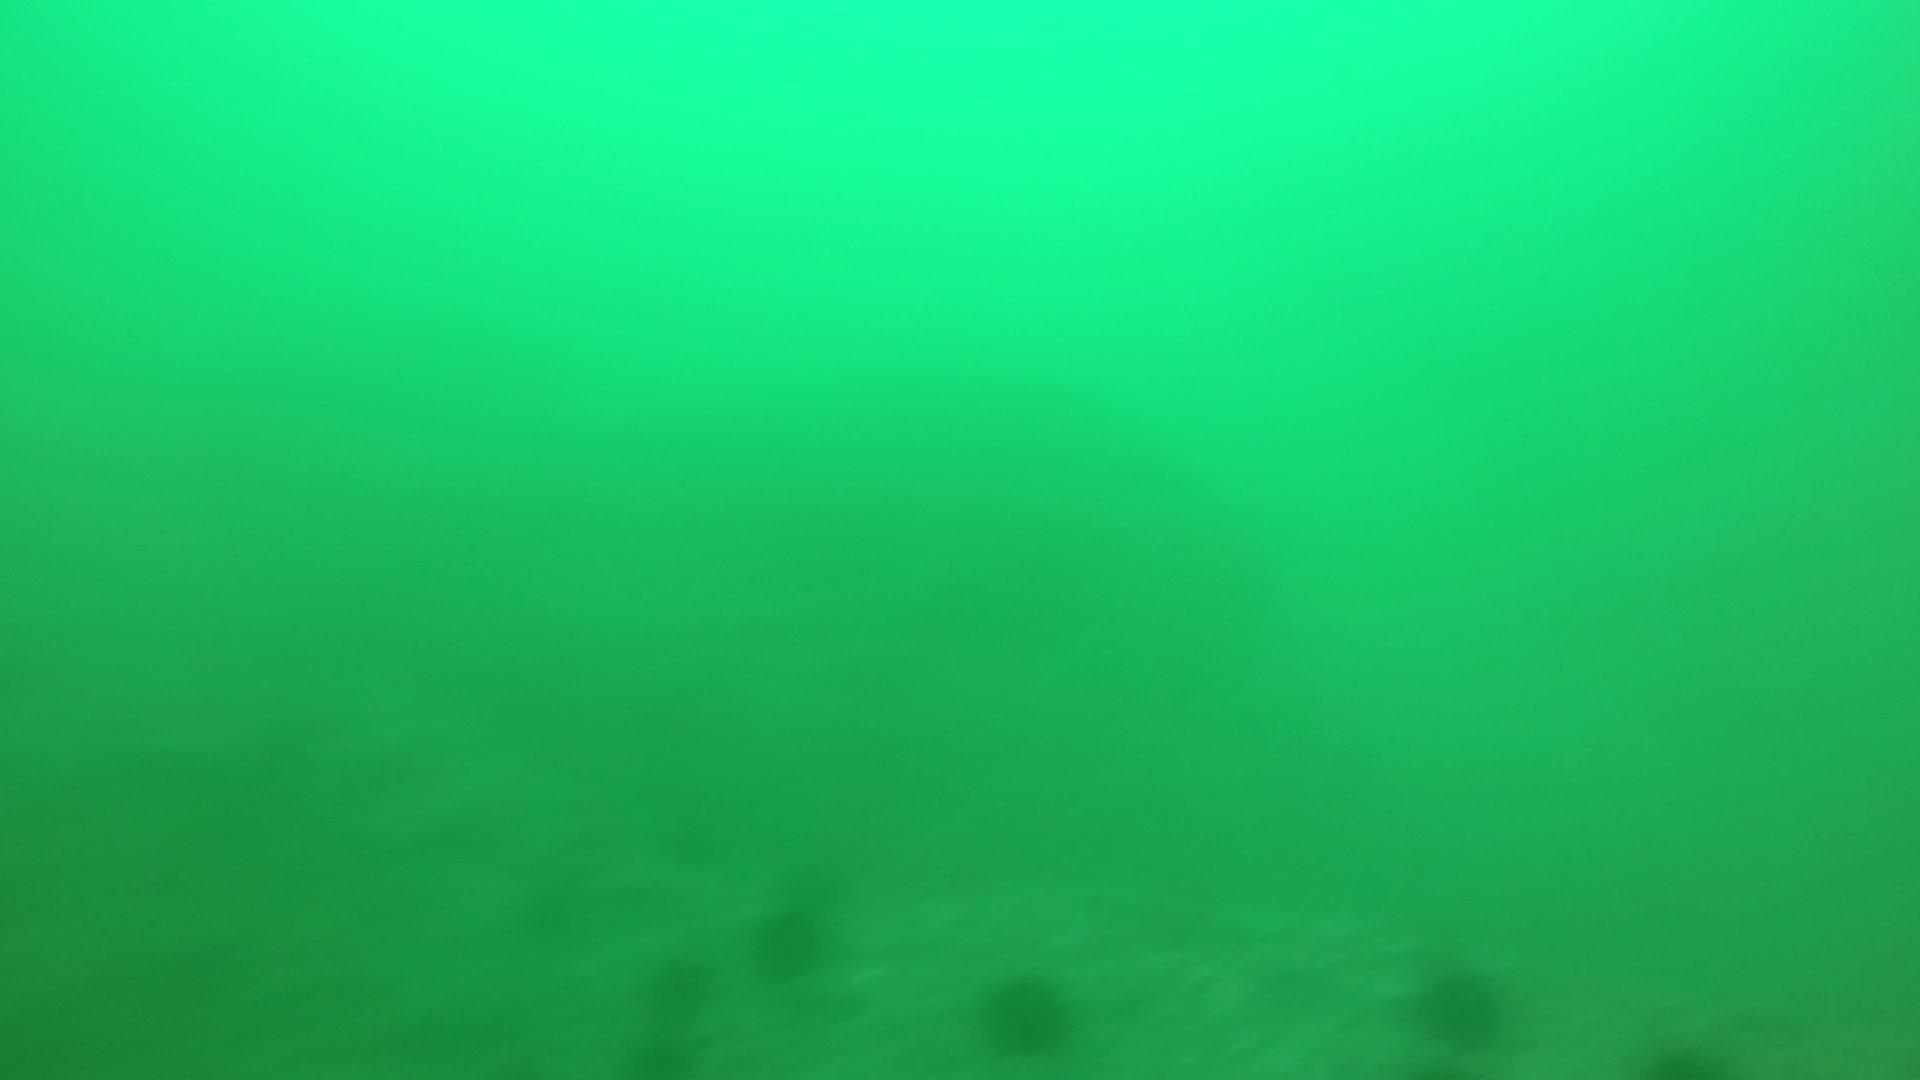echinus: (975, 964, 1077, 1059), (1408, 957, 1513, 1050), (748, 895, 837, 981), (637, 944, 717, 1015), (512, 877, 588, 945)
